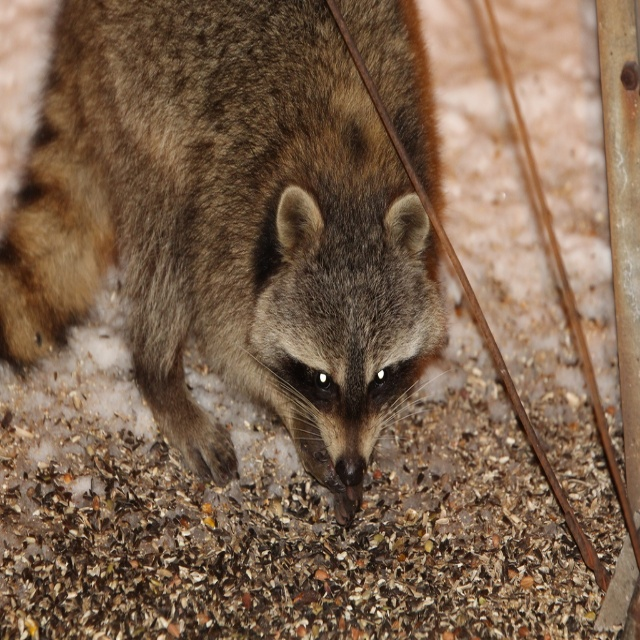Raccoon: (0, 0, 455, 527)
